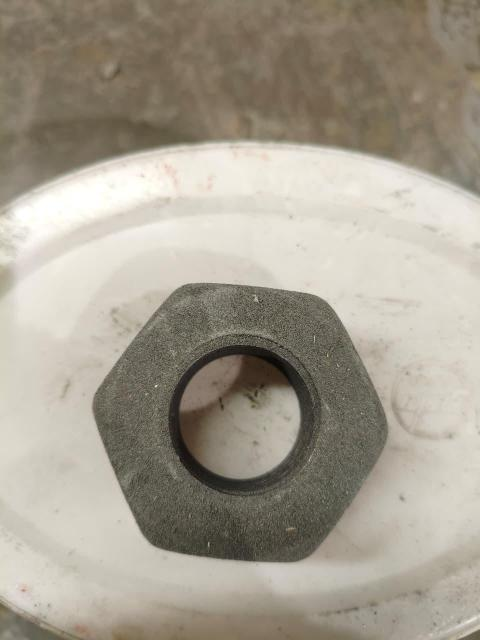Metal: (95, 282, 392, 563)
